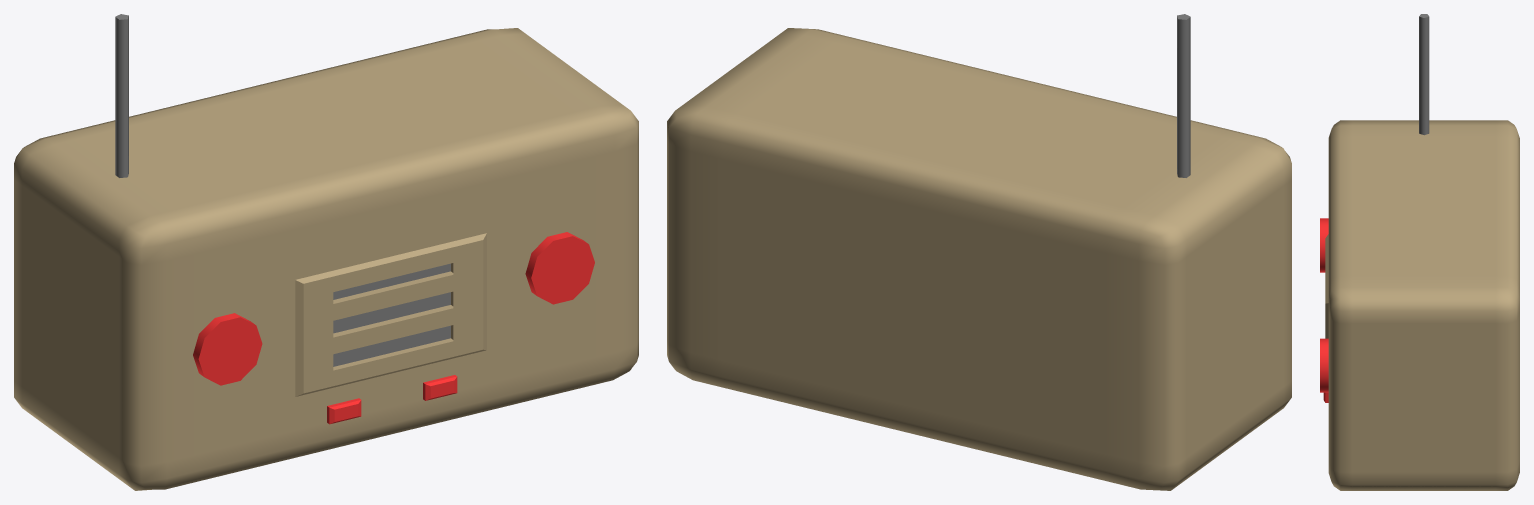
File: Radio.fbx
3 views of the same model, side by side, from view 1: azimuth 30°, elevation 25°; view 2: azimuth 150°, elevation 25°; view 3: azimuth 270°, elevation 25° (orthographic). The views are drawn at different scales.
Visible parts, largest first — view 1: Box001; view 2: Box001; view 3: Box001.
Boxes of the visible parts, box(x1,y1,x2,y2) form: Box001: box(14, 14, 638, 490); Box001: box(667, 14, 1291, 490); Box001: box(1320, 14, 1519, 490).
Size of the model in its own units: 80 by 63.64 by 36.55.
